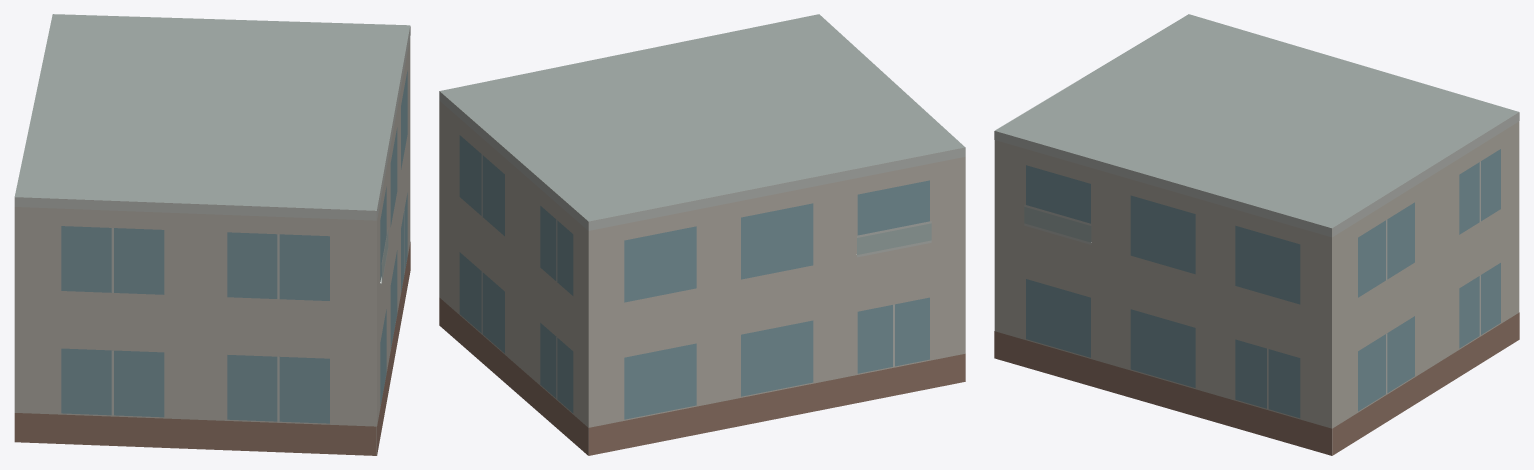
The model's file is survey-upis-32498753.glb.
3 views of the same model, side by side, from view 1: azimuth 30°, elevation 25°; view 2: azimuth 150°, elevation 25°; view 3: azimuth 270°, elevation 25° (orthographic). The views are drawn at different scales.
Parts seen in each view (by area): view 1: survey-upis-32498753.tmp; view 2: survey-upis-32498753.tmp; view 3: survey-upis-32498753.tmp.
Boxes of the visible parts, x1,y1,x2,y2 form: survey-upis-32498753.tmp: (14,14,410,455); survey-upis-32498753.tmp: (439,14,965,455); survey-upis-32498753.tmp: (994,14,1519,455).
Size of the model in its own units: 12.33 by 6.1 by 12.77.
